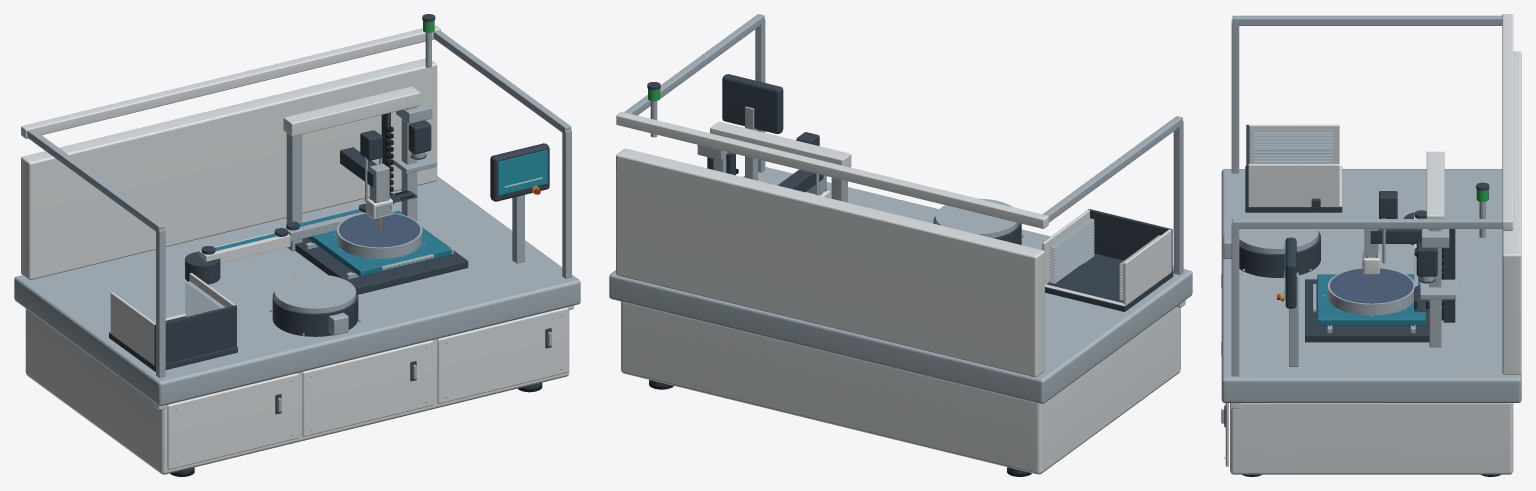
The model's file is precision-assembly.glb.
The picture shows the model from 3 angles, left to right: view 1: azimuth 30°, elevation 25°; view 2: azimuth 150°, elevation 25°; view 3: azimuth 270°, elevation 25°; orthographic projection. The views are drawn at different scales.
Parts seen in each view (by area): view 1: STATIC_bed, STATIC_rear_service, STATIC_lower_cabinet, COVER_service_door_1, COVER_service_door_2, COVER_service_door_0, STATIC_back_header, STATIC_cassette_back, STATIC_xy_base, STATIC_gantry_bridge, ALIGNER_rotor, STAGE_carriage (+21 smaller); view 2: STATIC_rear_service, STATIC_lower_cabinet, STATIC_bed, STATIC_back_header, STATIC_loadport_mount, STATIC_console_body, STATIC_cassette_back, STATIC_cassette_wall_-0.858, STATIC_gantry_bridge, STATIC_top_rail_-0.865, STATIC_top_rail_0.865, ALIGNER_rotor (+3 smaller); view 3: STATIC_bed, STATIC_lower_cabinet, STATIC_rear_service, STATIC_cassette_wall_-0.522, STATIC_top_rail_-0.865, STATIC_xy_base, STATIC_top_rail_0.865, STATIC_back_header, WAFER_template, STAGE_carriage, ALIGNER_rotor, STATIC_aligner_base (+17 smaller).
Boxes of the visible parts, <box> form: STATIC_bed: <box>14,176,580,405</box>; STATIC_rear_service: <box>21,58,437,279</box>; STATIC_lower_cabinet: <box>25,308,569,474</box>; COVER_service_door_1: <box>302,340,433,436</box>; COVER_service_door_2: <box>437,307,568,403</box>; COVER_service_door_0: <box>167,373,298,469</box>; STATIC_back_header: <box>21,25,440,138</box>; STATIC_cassette_back: <box>154,305,236,366</box>; STATIC_xy_base: <box>295,227,468,294</box>; STATIC_gantry_bridge: <box>283,86,420,136</box>; ALIGNER_rotor: <box>274,274,355,313</box>; STAGE_carriage: <box>307,210,451,276</box>; STATIC_rear_service: <box>616,148,1044,377</box>; STATIC_lower_cabinet: <box>621,301,1180,474</box>; STATIC_bed: <box>609,167,1192,403</box>; STATIC_back_header: <box>616,112,1048,228</box>; STATIC_loadport_mount: <box>1045,253,1173,311</box>; STATIC_console_body: <box>722,74,783,133</box>; STATIC_cassette_back: <box>1088,209,1172,271</box>; STATIC_cassette_wall_-0.858: <box>1123,229,1171,305</box>; STATIC_gantry_bridge: <box>710,121,851,167</box>; STATIC_top_rail_-0.865: <box>1043,116,1182,222</box>; STATIC_top_rail_0.865: <box>624,14,764,115</box>; ALIGNER_rotor: <box>935,198,1018,237</box>; STATIC_bed: <box>1221,169,1521,402</box>; STATIC_lower_cabinet: <box>1230,403,1513,474</box>; STATIC_rear_service: <box>1502,51,1521,374</box>; STATIC_cassette_wall_-0.522: <box>1248,164,1339,206</box>; STATIC_top_rail_-0.865: <box>1232,15,1502,25</box>; STATIC_xy_base: <box>1305,279,1429,342</box>; STATIC_top_rail_0.865: <box>1232,219,1502,228</box>; STATIC_back_header: <box>1502,14,1513,230</box>; WAFER_template: <box>1330,268,1413,303</box>; STAGE_carriage: <box>1317,274,1425,325</box>; ALIGNER_rotor: <box>1239,214,1318,253</box>; STATIC_aligner_base: <box>1239,231,1320,277</box>.
Size of the model in its own units: 1.8 by 1.16 by 1.08.
